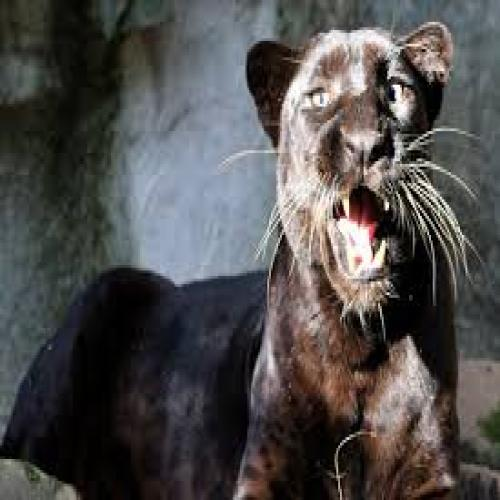panther-endangered: (0, 21, 483, 500)
